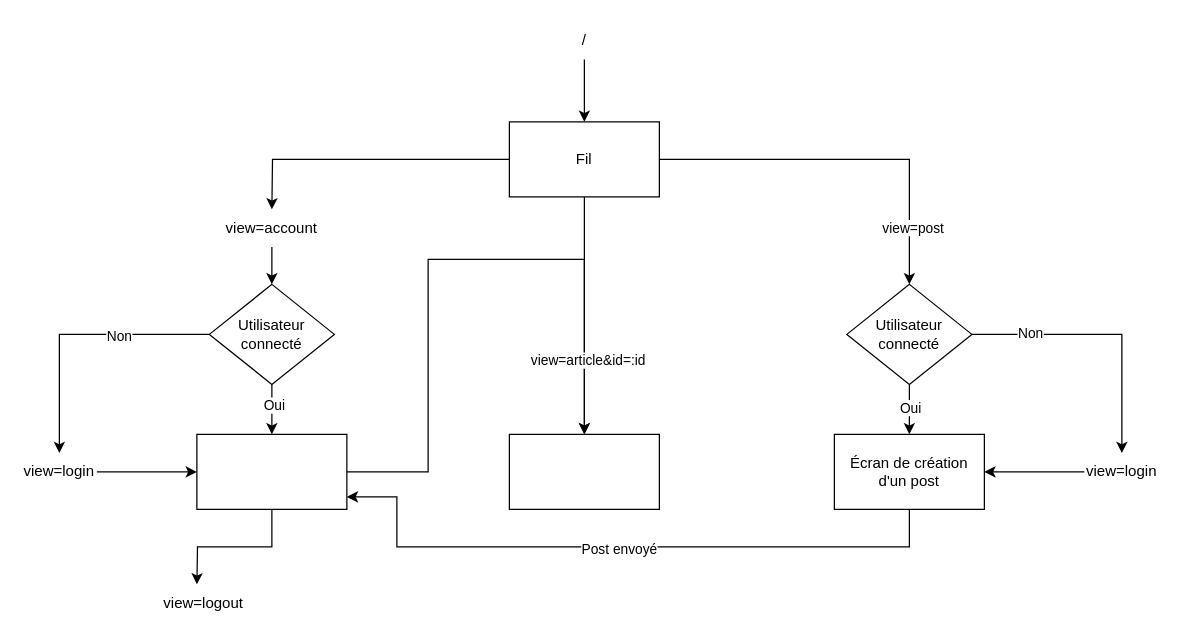
Some shapes in this 1180 by 643 pixel diagram are drawn without their labels. Here are the shapes that lost their labels. From the top down, the centre of each, then its label:
the point at 271,471: Vue du profi vue des infos persos et des postsl
the point at 583,471: Post
